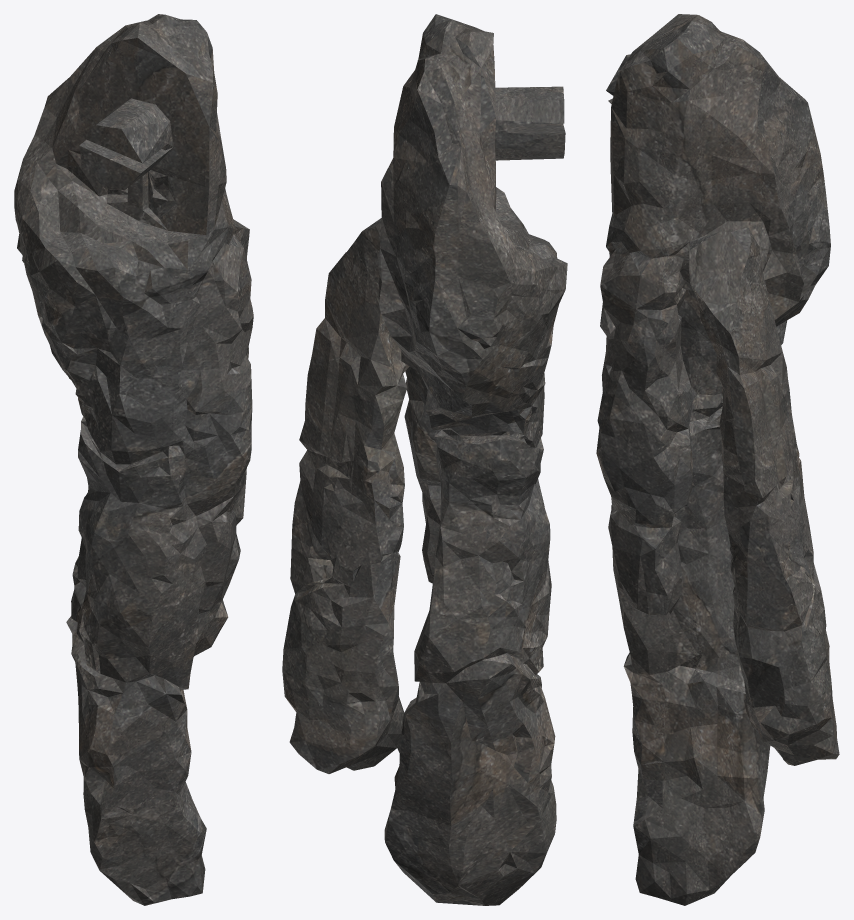
The model's file is rocky_pata_trasera_inferior.obj.
The picture shows the model from 3 angles, left to right: view 1: azimuth 30°, elevation 25°; view 2: azimuth 150°, elevation 25°; view 3: azimuth 270°, elevation 25°; orthographic projection.
Size of the model in its own units: 0.129 by 0.4579 by 0.1151.
Materials: 1 (1 with a texture image).
